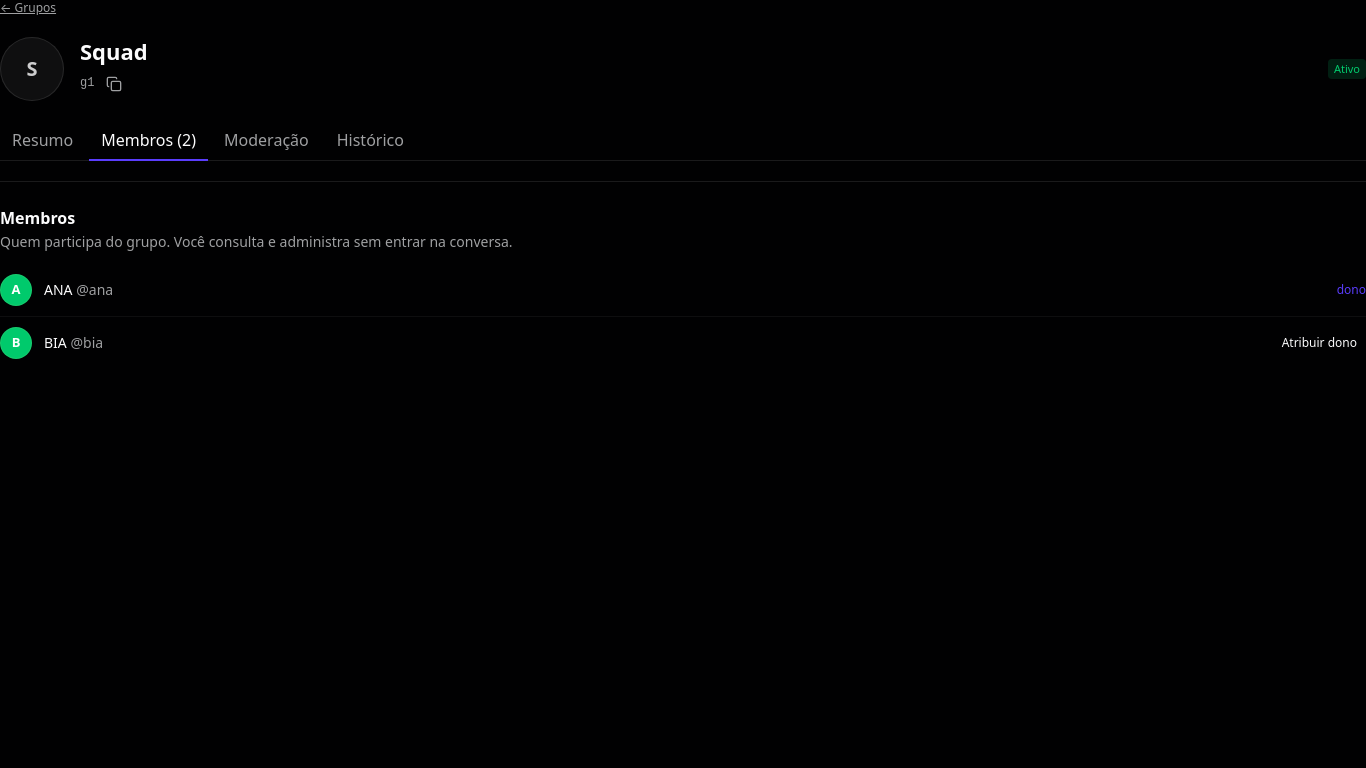
Test: GroupDetailPage › a member who left while the dialog was open: explains, and refreshes the members
Step 1. Click the button "Atribuir dono" → (1319, 343), box [1273, 329, 1365, 357]
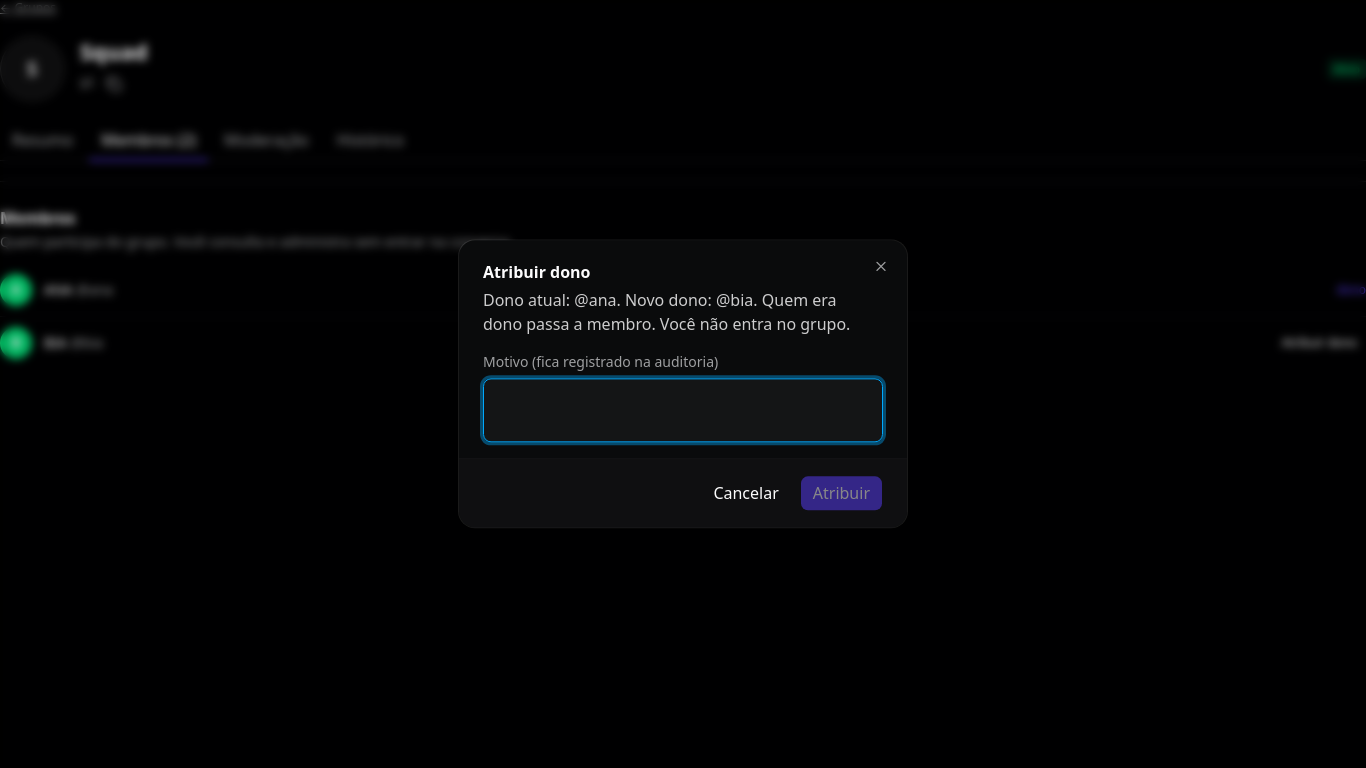
Step 2. Type "recovery" into the text box labelled "Motivo (fica registrado na auditoria)" → (683, 411), box [483, 379, 883, 443]
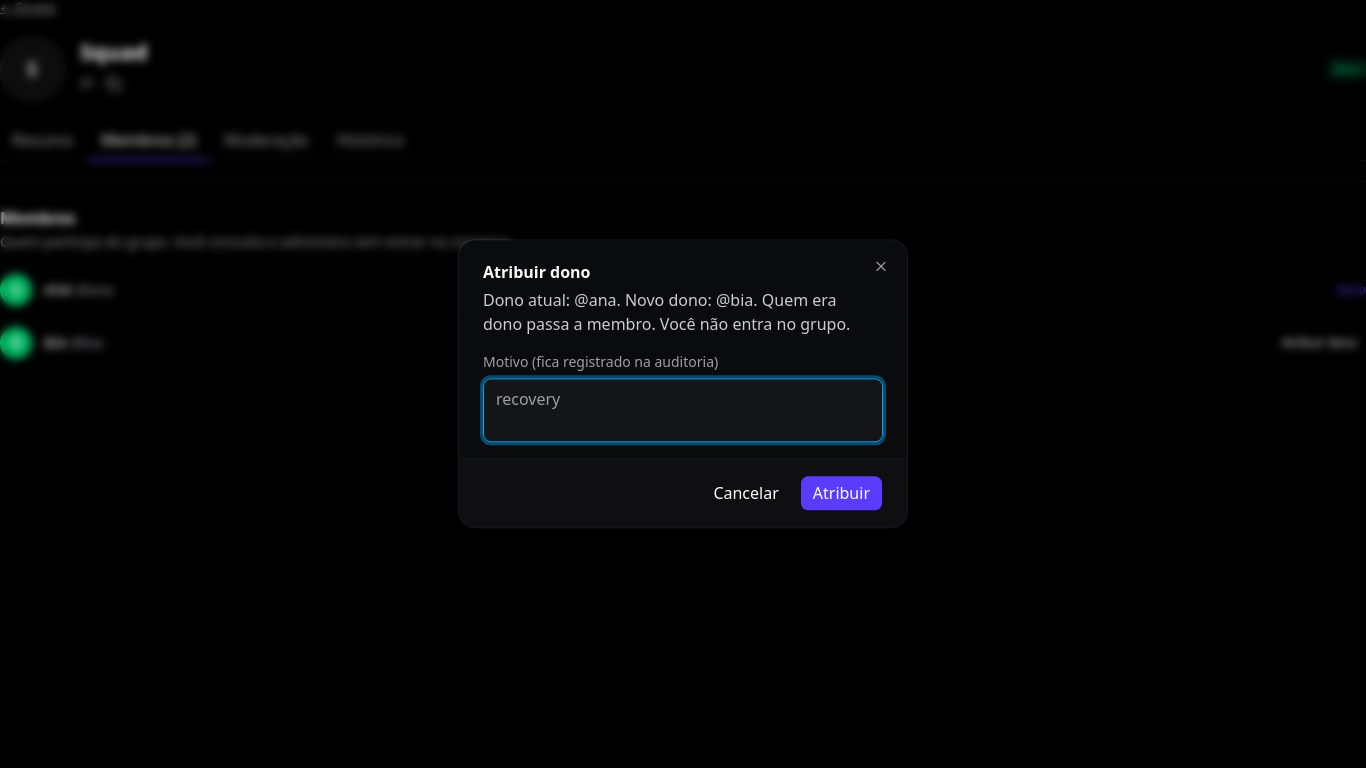
Step 3. Click the button "Atribuir" → (841, 494), box [800, 476, 883, 512]
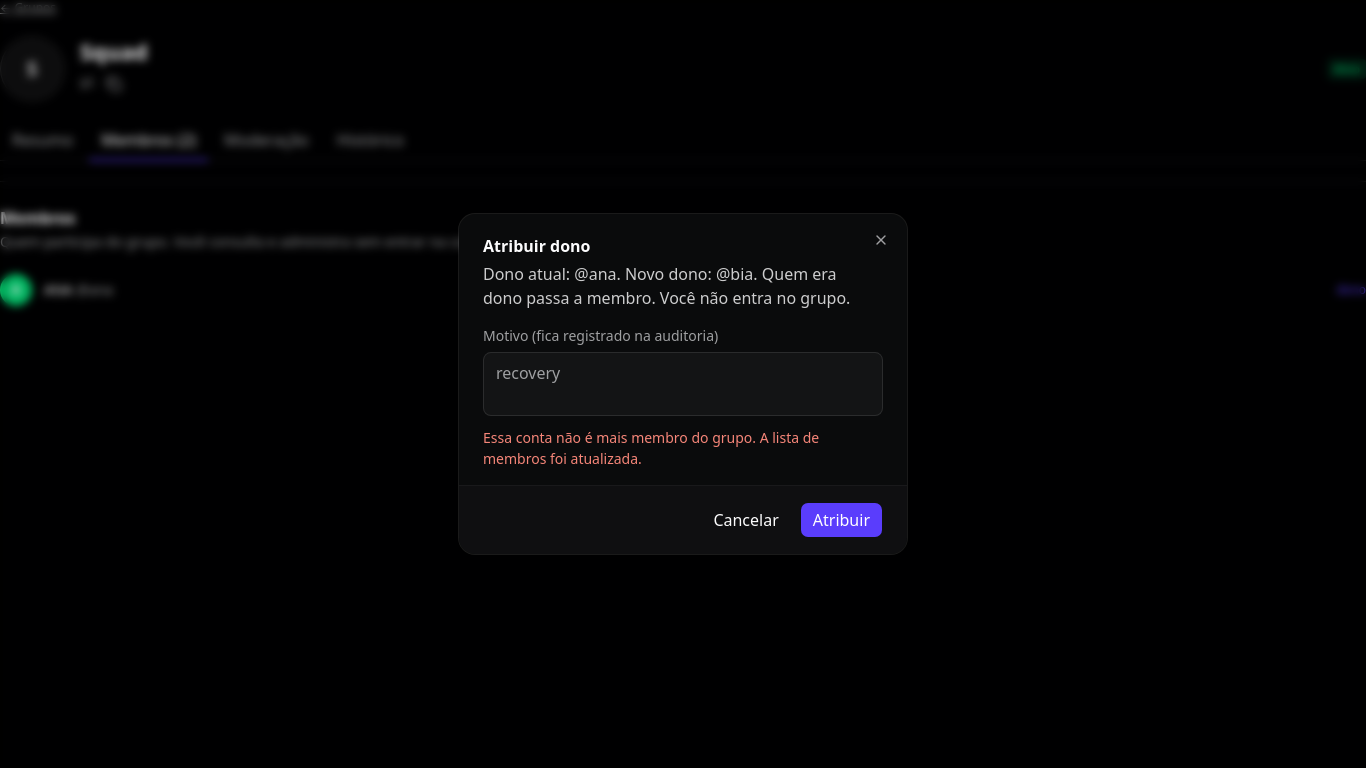
Now the message shows "não é mais membro do grupo", box [483, 428, 819, 468]
